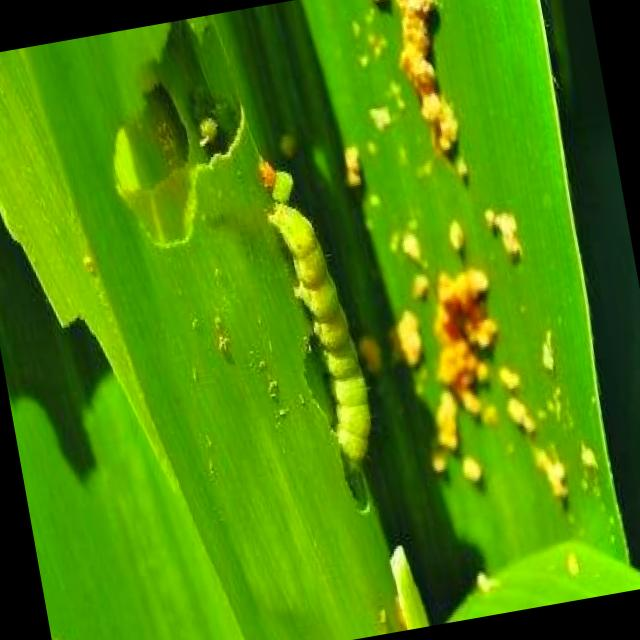pest: (281, 199, 384, 458)
